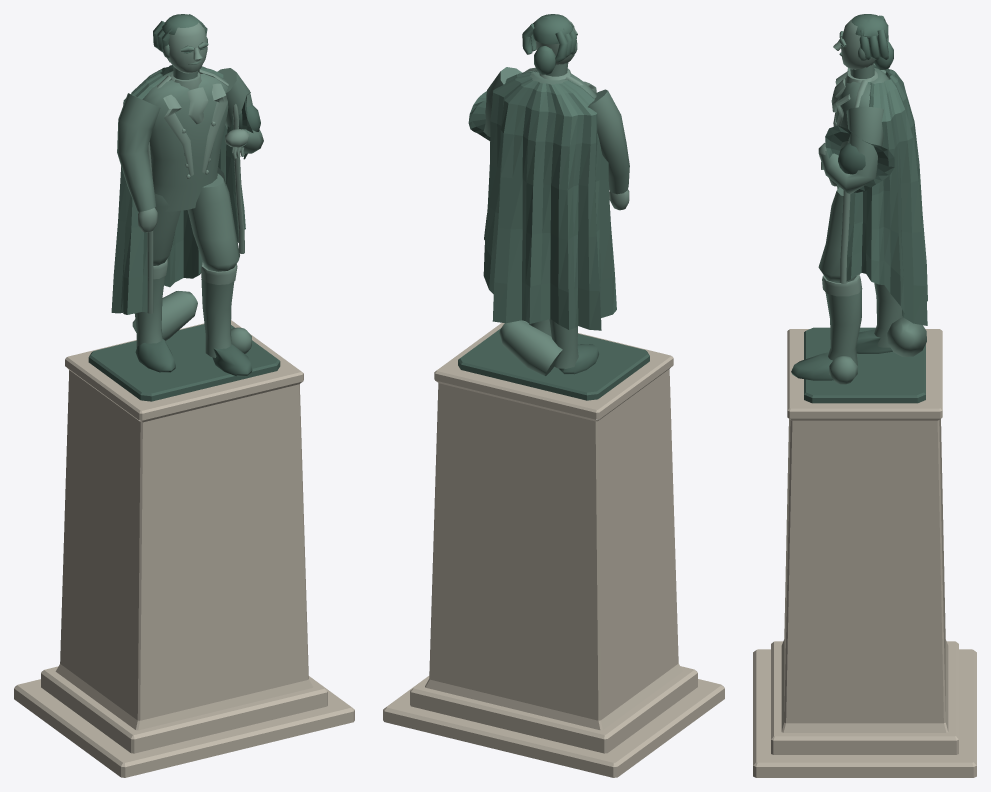
The model's file is dc-general-artemas-ward-memorial.glb.
3 views of the same model, side by side, from view 1: azimuth 30°, elevation 25°; view 2: azimuth 150°, elevation 25°; view 3: azimuth 270°, elevation 25° (orthographic).
Visible parts, largest first — view 1: General Artemas Ward Memorial; view 2: General Artemas Ward Memorial; view 3: General Artemas Ward Memorial.
Boxes of the visible parts, x1=… form: General Artemas Ward Memorial: x1=14, y1=14, x2=354, y2=777; General Artemas Ward Memorial: x1=383, y1=14, x2=724, y2=777; General Artemas Ward Memorial: x1=753, y1=14, x2=976, y2=777.
Bounding box in the file's own units: 2.16 × 6.1 × 1.76.
